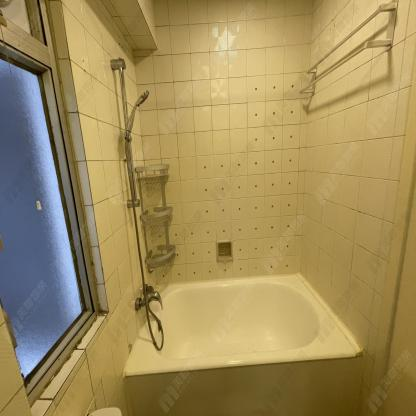Bathtub: (121, 271, 364, 416)
